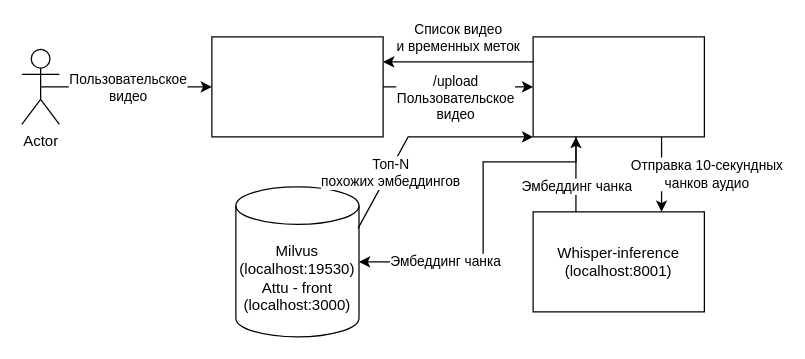
The diagram is 805 pixels wide and 359 high, and some of its shapes have lost their labels. The centre of each missing label's shape, as x and y in pixels:
Core-backend (localhost:8080): the point at 618,86
Frontend (localhost:12345): the point at 297,86
